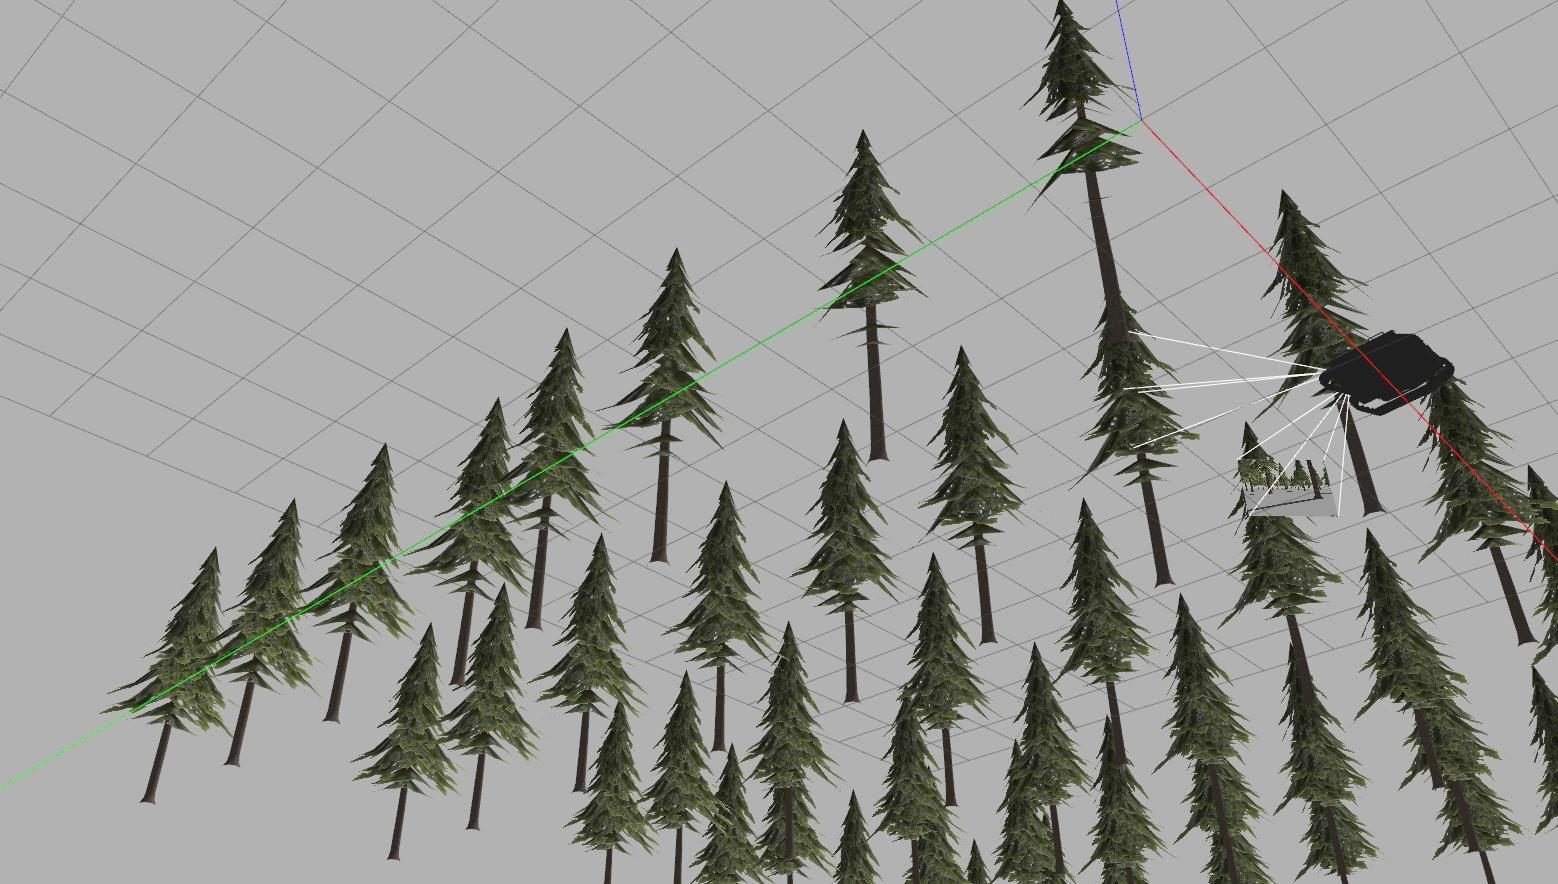tree_gazebo: (414, 398, 523, 688), (617, 249, 718, 562), (825, 131, 919, 458), (107, 548, 225, 802), (1421, 378, 1533, 643), (307, 444, 411, 721), (925, 350, 1023, 641), (800, 423, 895, 701), (670, 484, 767, 751), (538, 535, 639, 790), (511, 332, 596, 628), (219, 502, 310, 767), (356, 624, 457, 862), (1061, 499, 1150, 765), (444, 588, 535, 830), (904, 553, 986, 805), (1266, 192, 1363, 401), (569, 700, 654, 884), (645, 672, 718, 884), (693, 746, 764, 883), (1339, 398, 1385, 513), (834, 791, 876, 884)
